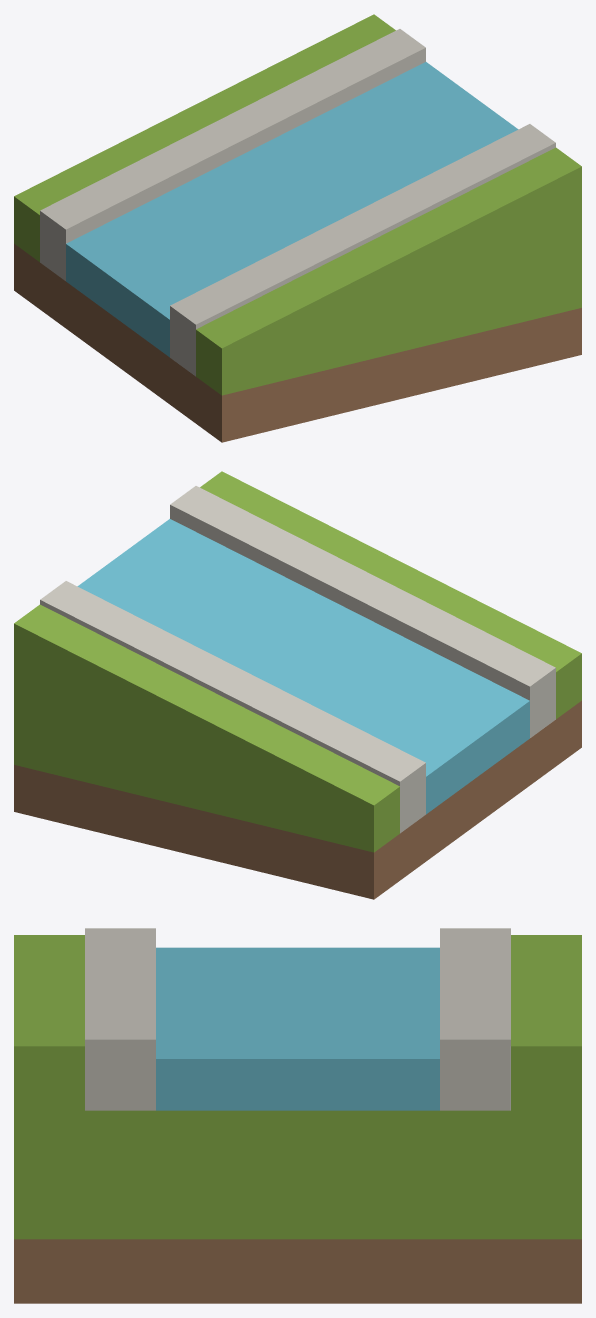
File: canal-hill.obj
3 views of the same model, one above another, from view 1: azimuth 30°, elevation 25°; view 2: azimuth 150°, elevation 25°; view 3: azimuth 270°, elevation 25° (orthographic). The views are drawn at different scales.
Parts seen in each view (by area): view 1: canal-hill_Cube.055; view 2: canal-hill_Cube.055; view 3: canal-hill_Cube.055.
Part boxes in pixels (x1,y1,x2,y2): canal-hill_Cube.055: (14,14,581,442); canal-hill_Cube.055: (14,471,581,899); canal-hill_Cube.055: (14,928,581,1303).
Size of the model in its own units: 8 by 4.1 by 8.
1 material, 1 textured.
